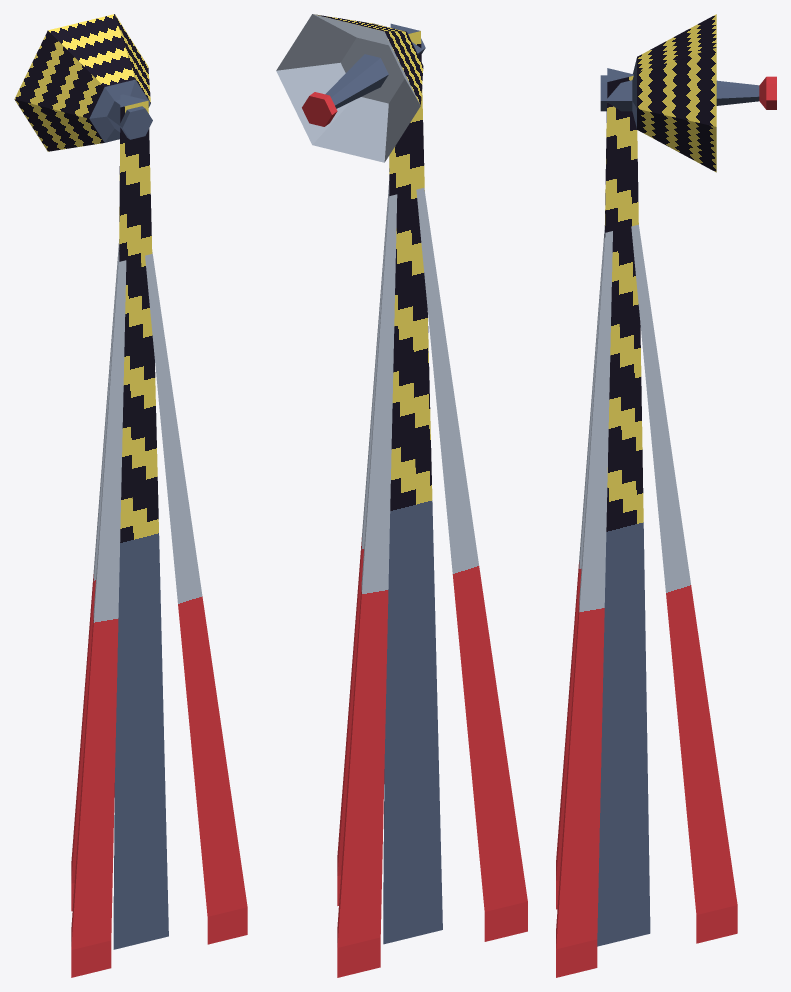
The model's file is PowerTower.glb.
3 views of the same model, side by side, from view 1: azimuth 30°, elevation 25°; view 2: azimuth 150°, elevation 25°; view 3: azimuth 270°, elevation 25° (orthographic). The views are drawn at different scales.
Visible parts, largest first — view 1: Tower_Supports, Tower_Main, Radio Antenna; view 2: Tower_Supports, Tower_Main, Radio Antenna; view 3: Tower_Supports, Tower_Main, Radio Antenna.
Boxes of the visible parts, box(x1,y1,x2,y2) form: Tower_Supports: box(71, 239, 247, 977); Tower_Main: box(113, 94, 168, 949); Radio Antenna: box(14, 14, 152, 151); Tower_Supports: box(337, 181, 527, 977); Tower_Main: box(383, 23, 442, 944); Radio Antenna: box(276, 14, 425, 162); Tower_Supports: box(556, 224, 737, 977); Tower_Main: box(597, 68, 650, 946); Radio Antenna: box(600, 14, 776, 172).
Size of the model in its own units: 2.63 by 12.51 by 2.77.
Materials: 1 (1 with a texture image).
